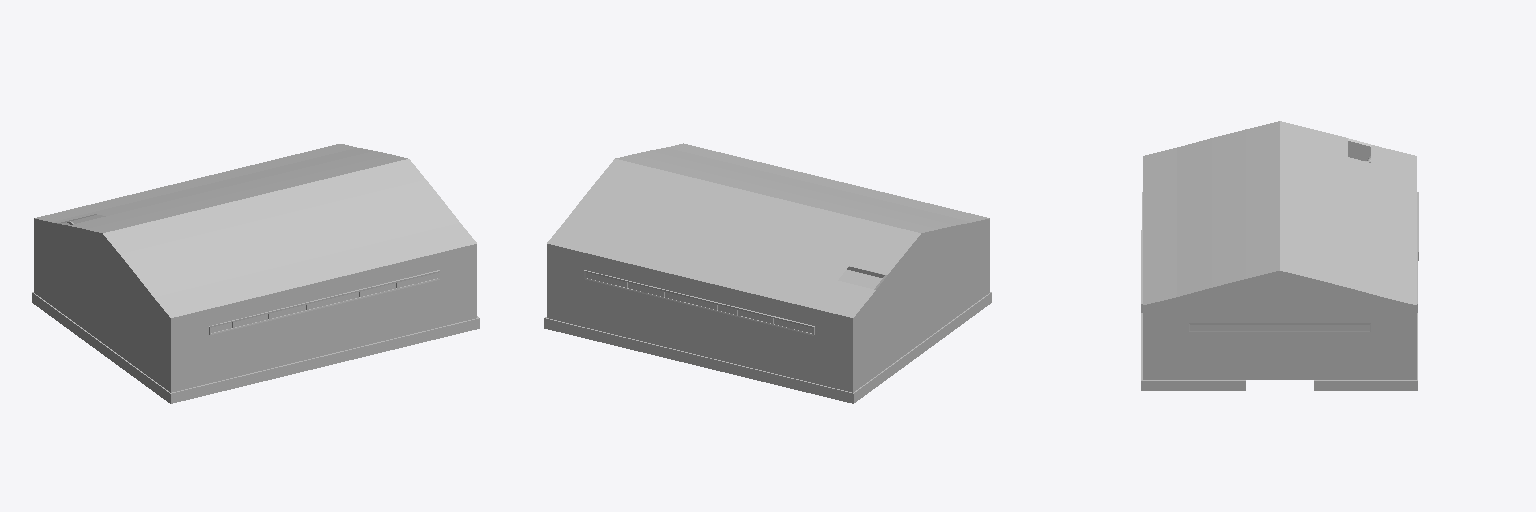
The model's file is WareHouse.obj.
3 renders of one model, left to right at view 1: azimuth 30°, elevation 25°; view 2: azimuth 150°, elevation 25°; view 3: azimuth 270°, elevation 25°, orthographic.
Parts seen in each view (by area): view 1: WareHouse, WareHouse WareHouse_Trim, WareHouse Side_Window2 Glass, WareHouse Window_Frame Side_Window2; view 2: WareHouse, WareHouse WareHouse_Trim, WareHouse Side_Window1 Glass, WareHouse Window_Frame Side_Window1; view 3: WareHouse, WareHouse WareHouse_Door, WareHouse WareHouse_Trim, WareHouse WareHouse_Sign, WareHouse Front_Window Glass, WareHouse Window_Frame Front_Window.
Part boxes in pixels (left/top/right/bottom): WareHouse: left=34, top=144, right=476, bottom=392; WareHouse WareHouse_Trim: left=32, top=292, right=479, bottom=403; WareHouse Side_Window2 Glass: left=211, top=273, right=437, bottom=332; WareHouse Window_Frame Side_Window2: left=209, top=270, right=439, bottom=334; WareHouse: left=547, top=143, right=989, bottom=392; WareHouse WareHouse_Trim: left=544, top=267, right=991, bottom=403; WareHouse Side_Window1 Glass: left=586, top=272, right=811, bottom=332; WareHouse Window_Frame Side_Window1: left=584, top=270, right=814, bottom=335; WareHouse: left=1143, top=121, right=1416, bottom=379; WareHouse WareHouse_Door: left=1246, top=343, right=1313, bottom=379; WareHouse WareHouse_Trim: left=1141, top=230, right=1417, bottom=390; WareHouse WareHouse_Sign: left=1223, top=299, right=1336, bottom=315; WareHouse Front_Window Glass: left=1190, top=325, right=1369, bottom=330; WareHouse Window_Frame Front_Window: left=1189, top=323, right=1370, bottom=331.
Bounding box in the file's own units: 249 × 92.31 × 194.